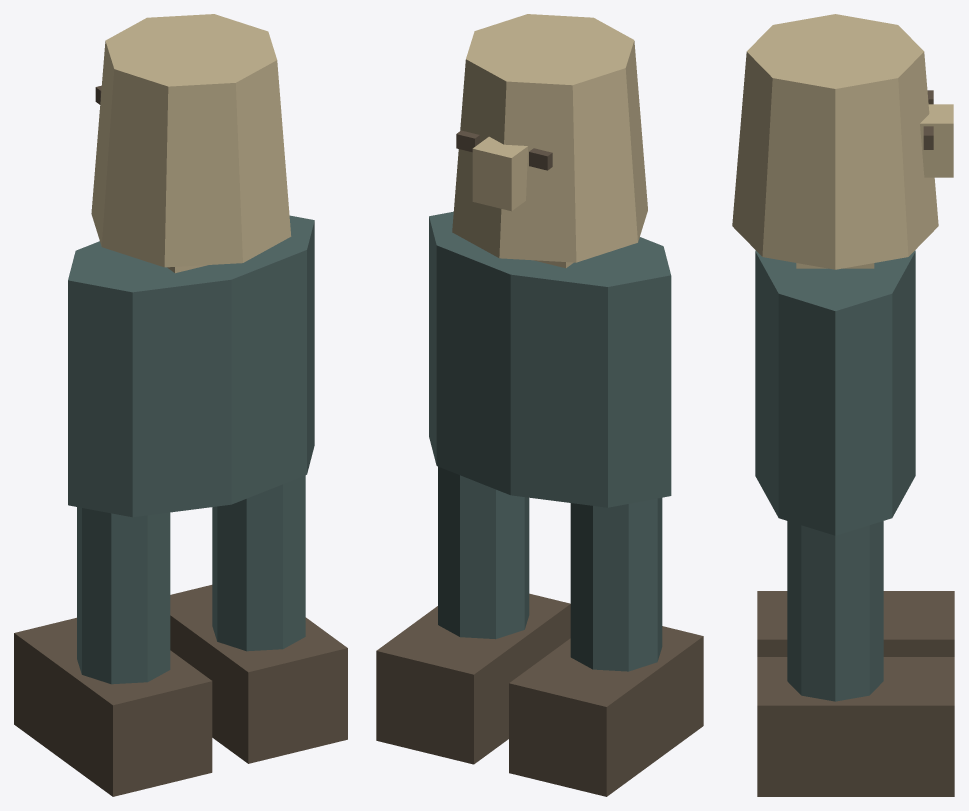
Rendered from Equip_PawnCore.fbx.
3 views of the same model, side by side, from view 1: azimuth 30°, elevation 25°; view 2: azimuth 150°, elevation 25°; view 3: azimuth 270°, elevation 25° (orthographic).
Visible parts, largest first — view 1: Equip_PawnCore; view 2: Equip_PawnCore; view 3: Equip_PawnCore.
Boxes of the visible parts, left/top/right/bottom form: Equip_PawnCore: left=14, top=14, right=347, bottom=796; Equip_PawnCore: left=376, top=14, right=703, bottom=796; Equip_PawnCore: left=732, top=14, right=954, bottom=796.
Size of the model in its own units: 0.62 by 1.65 by 0.485.
